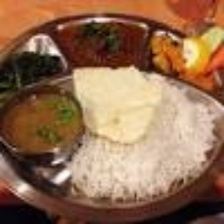rice: (70, 136, 215, 210)
